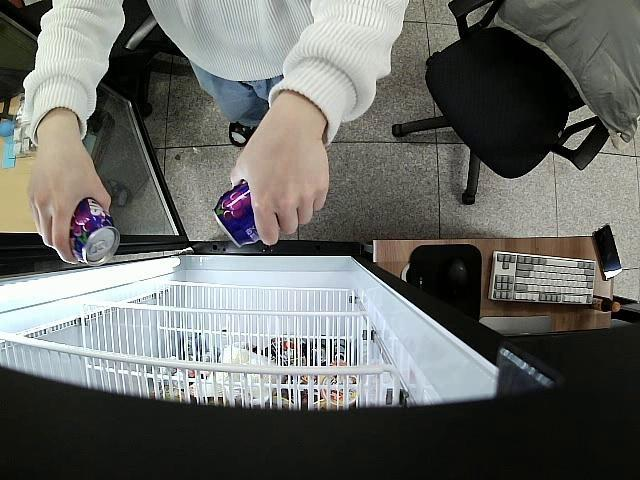14_welchsGrape: (212, 181, 282, 250), (62, 196, 121, 268)
